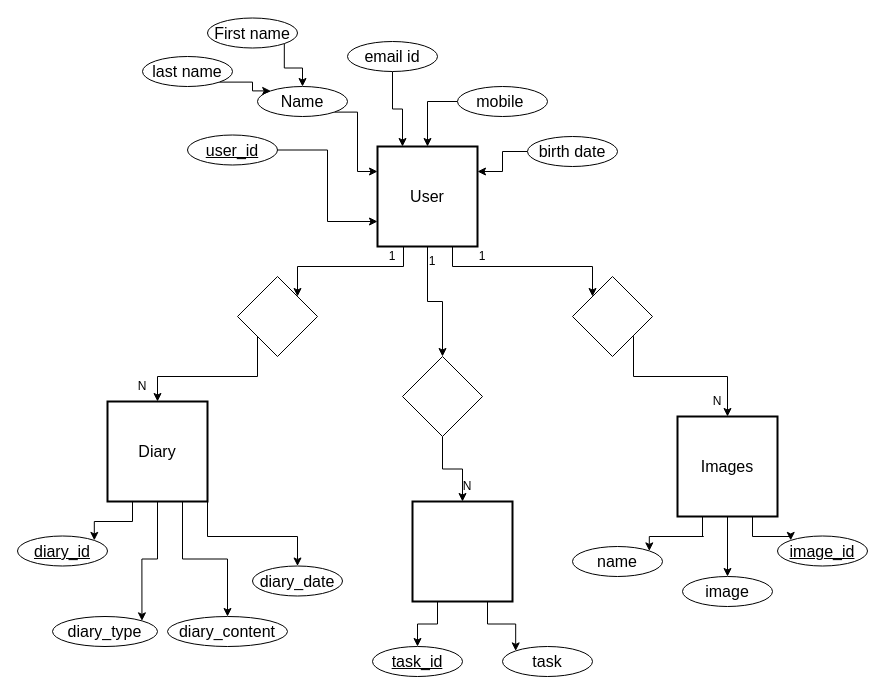
Some shapes in this 885 by 694 pixel diagram are drawn without their labels. The shapes that lost their labels are listed below. From the top down, each one's centre as x and y in pixels, then its label:
At point 277,316: "write".
At point 612,316: "insert".
At point 442,396: "add".
At point 462,551: "To do list".
